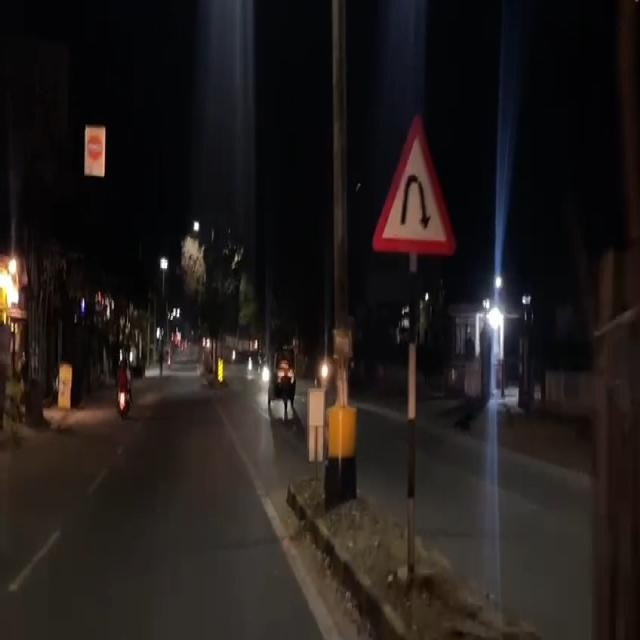bien_nguy_hiem: (368, 105, 459, 257)
